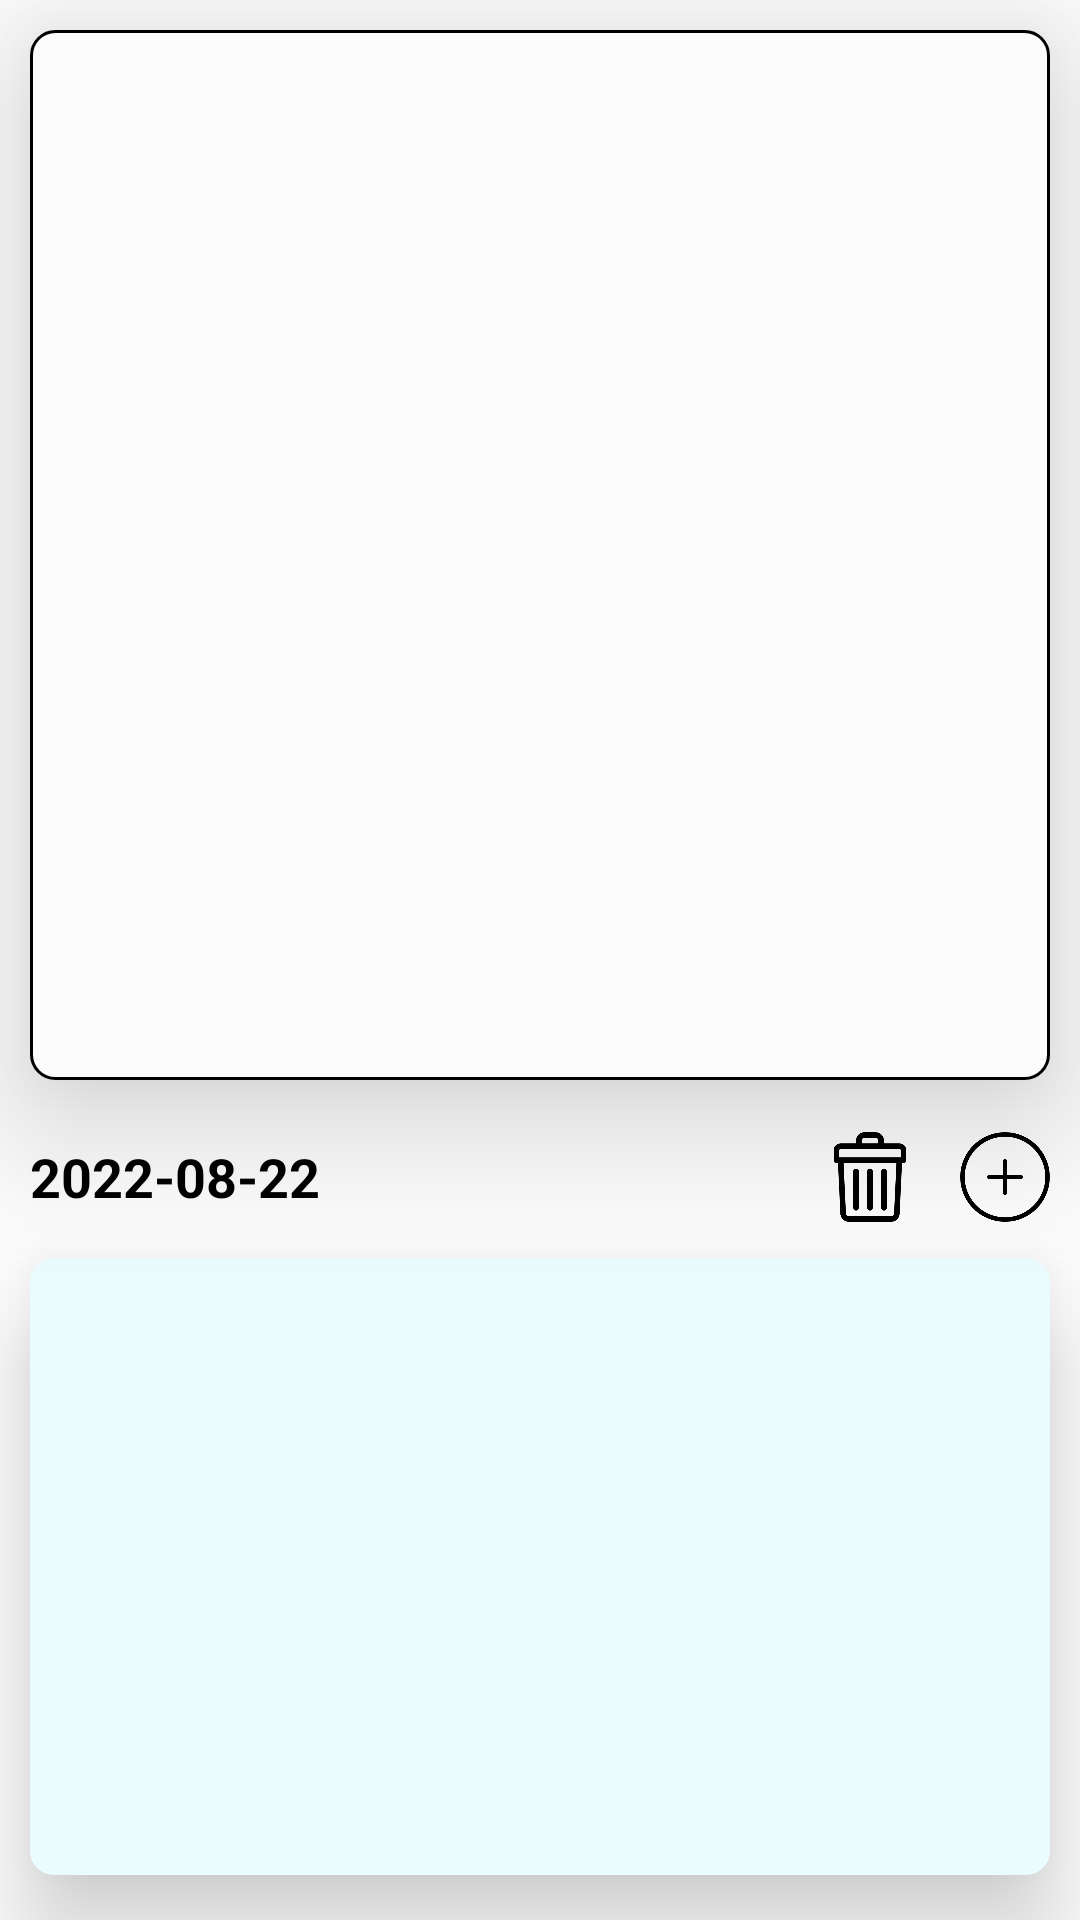

Icon click points for this 1080px x 1920px phone screenshot, format [x,y]:
add: [1005,1177]
trash: [870,1177]
